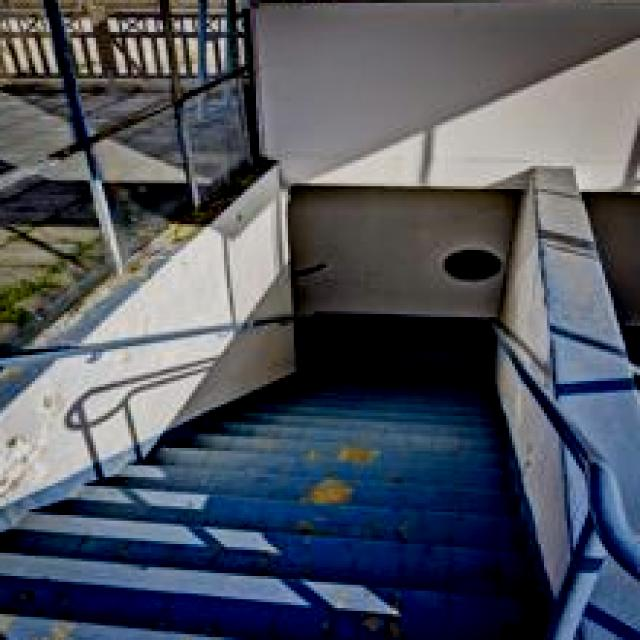downstair: (19, 432, 539, 635)
